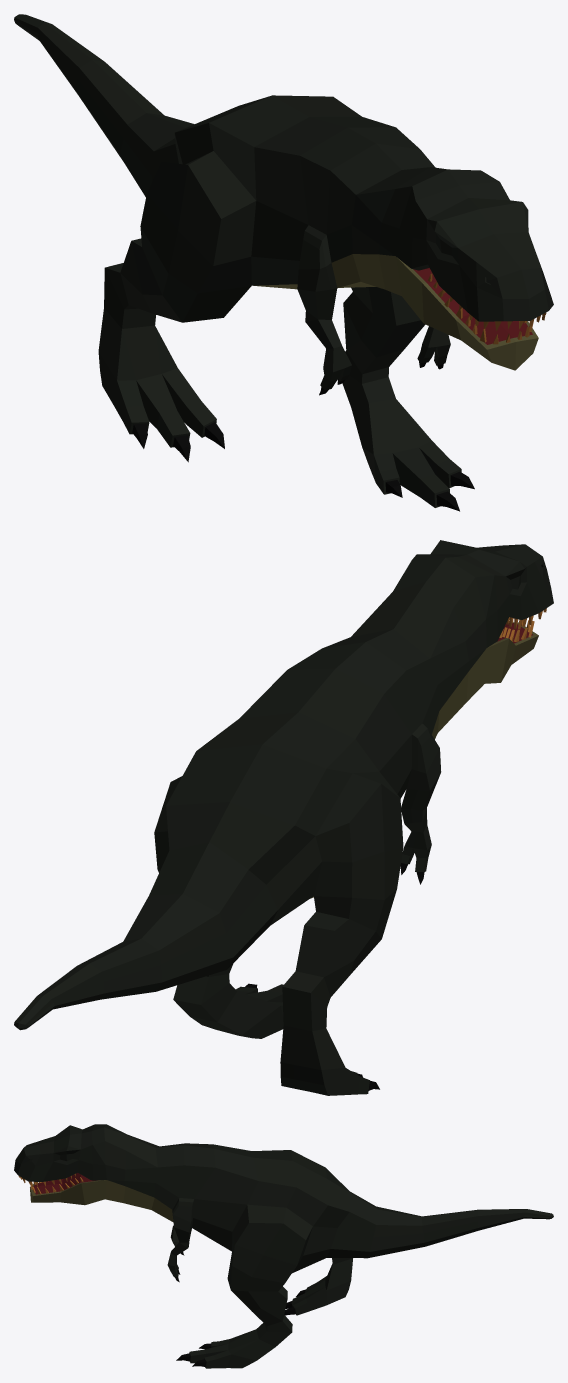
The model's file is Trex_000004.obj.
3 views of the same model, one above another, from view 1: azimuth 30°, elevation 25°; view 2: azimuth 150°, elevation 25°; view 3: azimuth 270°, elevation 25° (orthographic). The views are drawn at different scales.
Visible parts, largest first — view 1: Trex_Cylinder; view 2: Trex_Cylinder; view 3: Trex_Cylinder.
Boxes of the visible parts, box(x1,y1,x2,y2) form: Trex_Cylinder: box(14, 14, 553, 511); Trex_Cylinder: box(14, 540, 553, 1095); Trex_Cylinder: box(14, 1124, 553, 1368).
Size of the model in its own units: 8.06 by 13.63 by 31.11.
